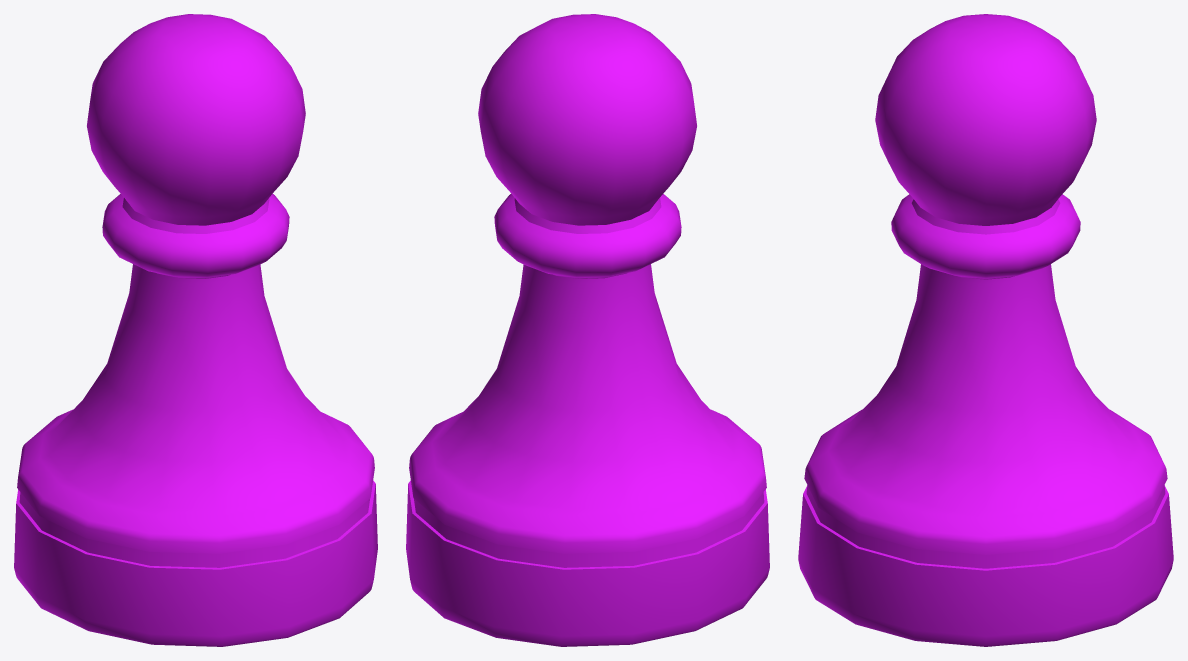
Rendered from piyon.fbx.
The picture shows the model from 3 angles, left to right: view 1: azimuth 30°, elevation 25°; view 2: azimuth 150°, elevation 25°; view 3: azimuth 270°, elevation 25°; orthographic projection.
Visible parts, largest first — view 1: Pawn.White.007; view 2: Pawn.White.007; view 3: Pawn.White.007.
Boxes of the visible parts, x1,y1,x2,y2 form: Pawn.White.007: [14, 14, 377, 646]; Pawn.White.007: [406, 14, 769, 646]; Pawn.White.007: [798, 14, 1173, 646].
Size of the model in its own units: 69.33 by 113 by 70.98.
